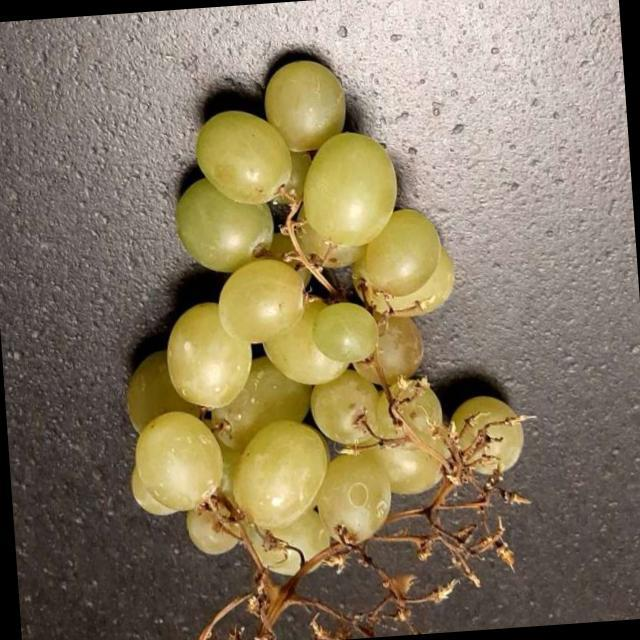Grapes: (84, 29, 538, 626)
